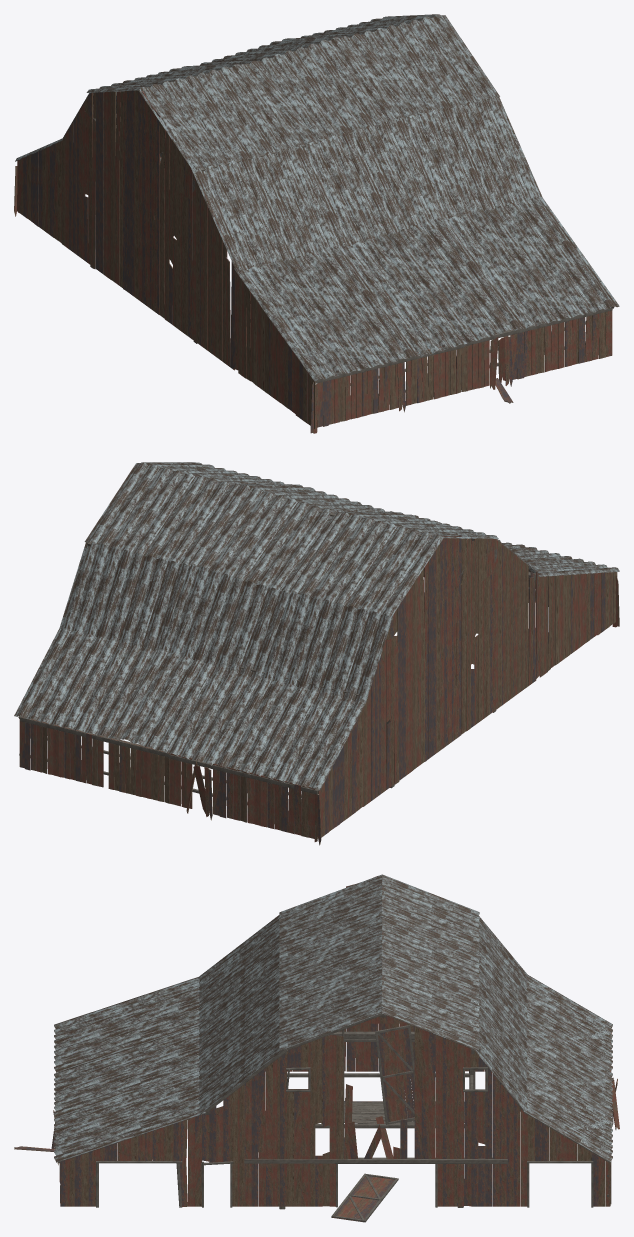
Rendered from barn2.glb.
3 renders of one model, top to bottom at view 1: azimuth 30°, elevation 25°; view 2: azimuth 150°, elevation 25°; view 3: azimuth 270°, elevation 25°, orthographic. The views are drawn at different scales.
Visible parts, largest first — view 1: SM_MERGED_wall6_MI_trim_boards1_0; view 2: SM_MERGED_wall6_MI_trim_boards1_0; view 3: SM_MERGED_wall6_MI_trim_boards1_0.
Boxes of the visible parts, box(x1,y1,x2,y2) form: SM_MERGED_wall6_MI_trim_boards1_0: box(14, 14, 619, 433); SM_MERGED_wall6_MI_trim_boards1_0: box(14, 462, 619, 845); SM_MERGED_wall6_MI_trim_boards1_0: box(14, 874, 619, 1222).
Bounding box in the file's own units: 1537 × 968 × 2586.
1 material, 1 textured.
